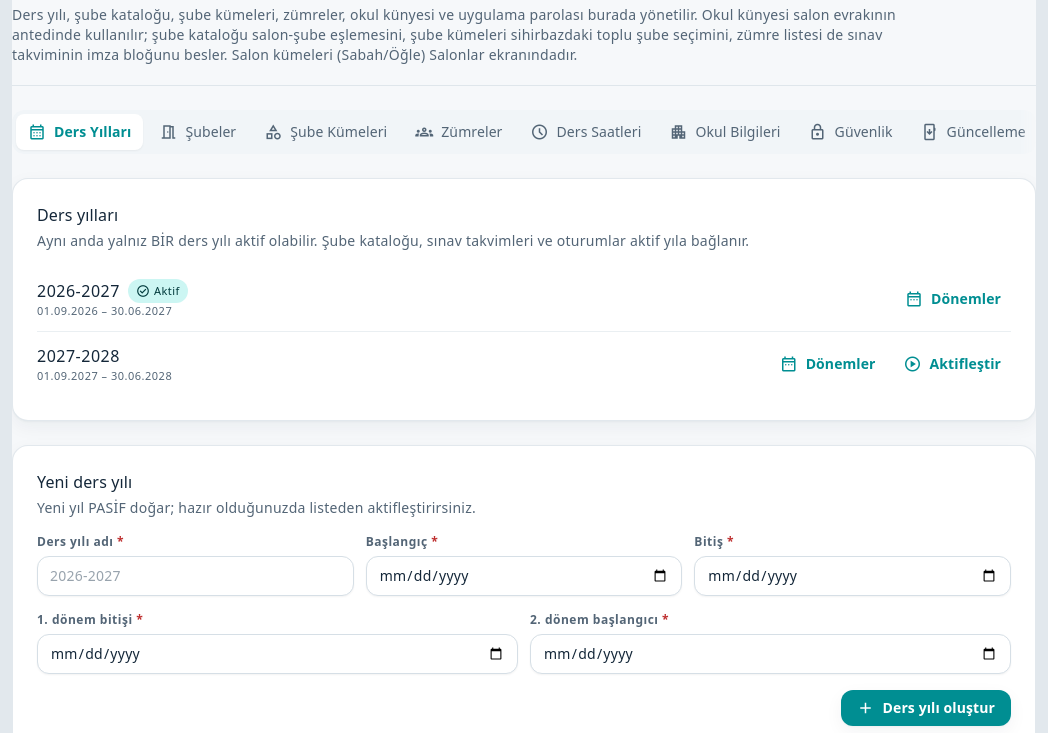
AyarlarPage — okul bilgileri › kaydetme hatası bantta gösterilir
Click the tab "Okul Bilgileri": x=725, y=132 [657,114,793,150]
(page scrolled)
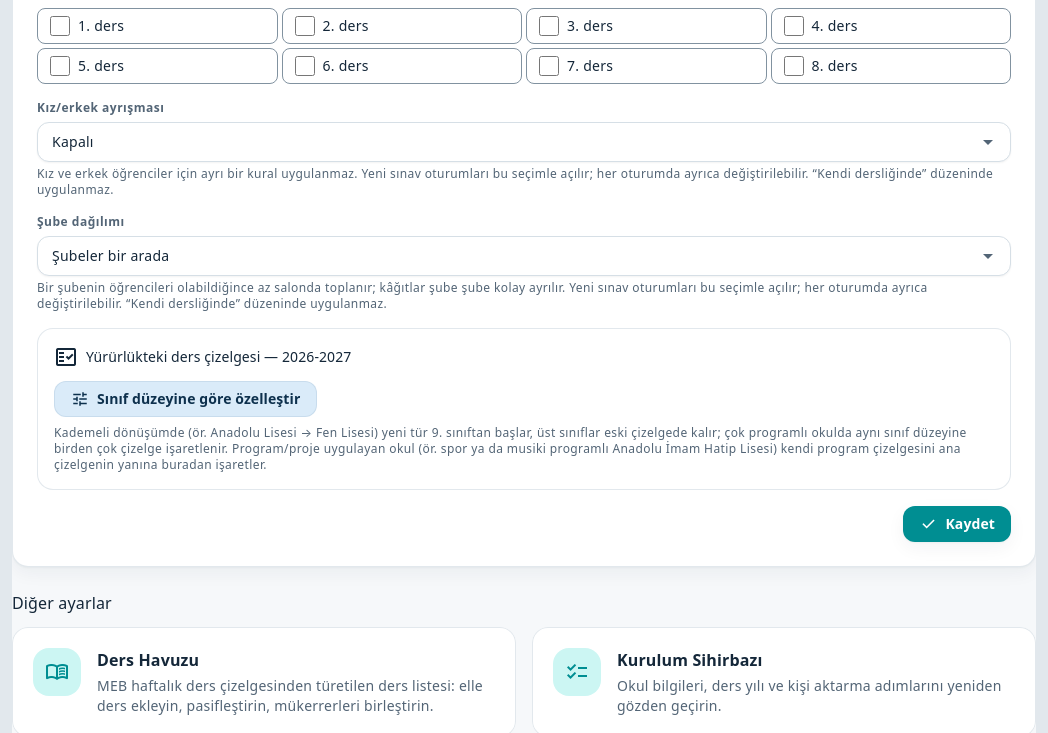
Click the button "Kaydet": x=957, y=524 [904,506,1011,542]
(page scrolled)
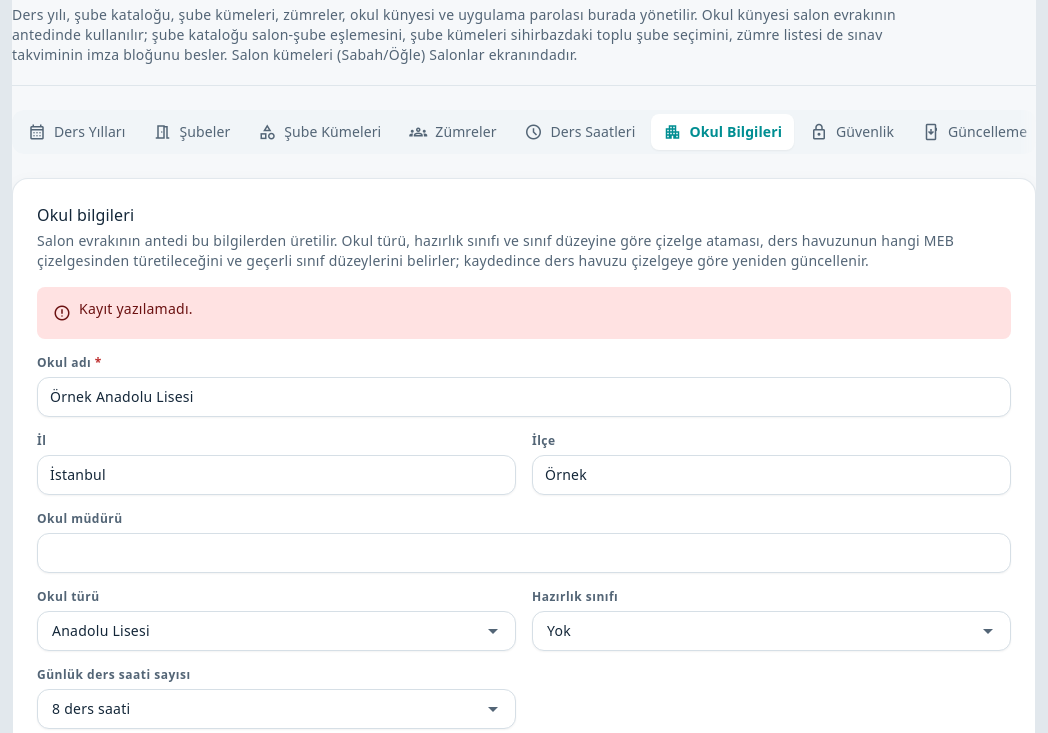
Now the text "Kayıt yazılamadı." is shown, box [79,299,193,319]
